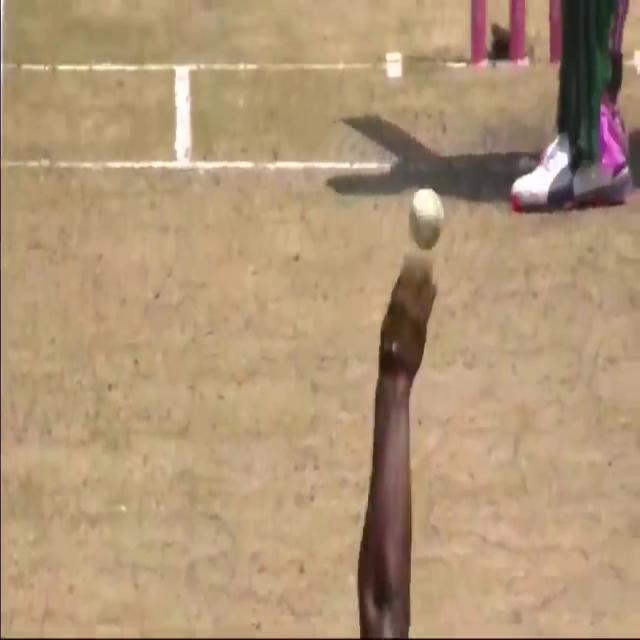Batsman: (398, 170, 454, 258)
